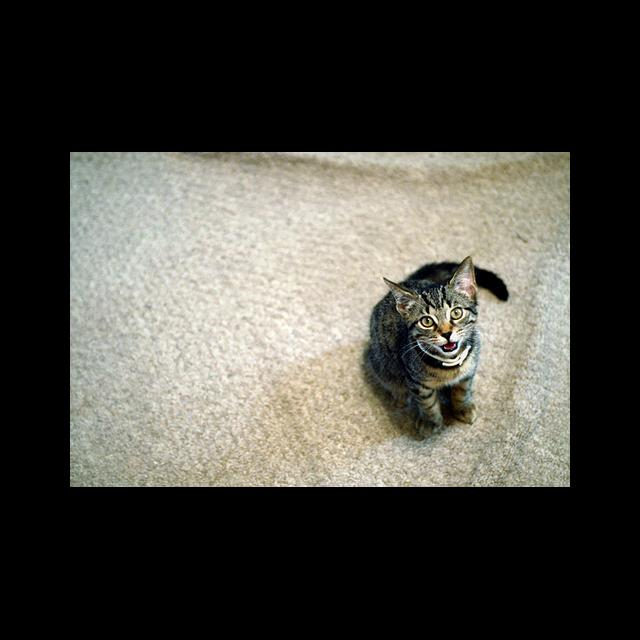animals: (384, 256, 475, 338)
